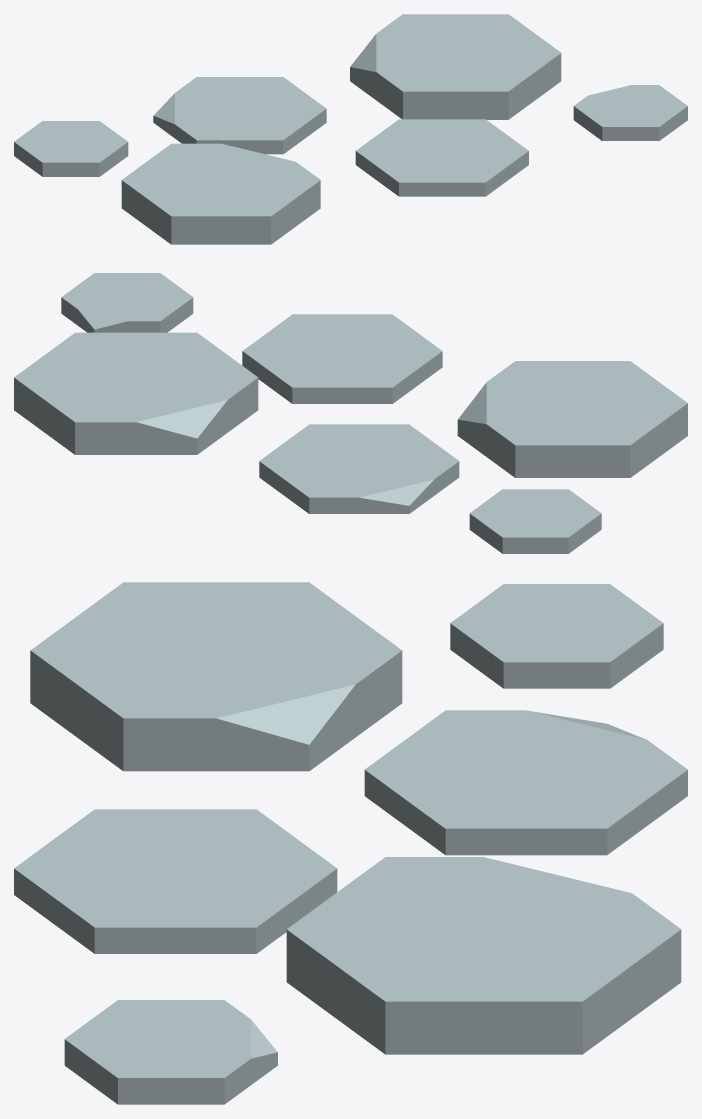
The model's file is path_stone.glb.
The picture shows the model from 3 angles, top to bottom: view 1: azimuth 30°, elevation 25°; view 2: azimuth 150°, elevation 25°; view 3: azimuth 270°, elevation 25°; orthographic projection. The views are drawn at different scales.
Visible parts, largest first — view 1: path_stone; view 2: path_stone; view 3: path_stone.
Boxes of the visible parts, <box> form: path_stone: <box>14,14,687,244</box>; path_stone: <box>14,273,687,553</box>; path_stone: <box>14,582,687,1104</box>.
Bounding box in the file's own units: 1 × 0.05 × 0.5766.
